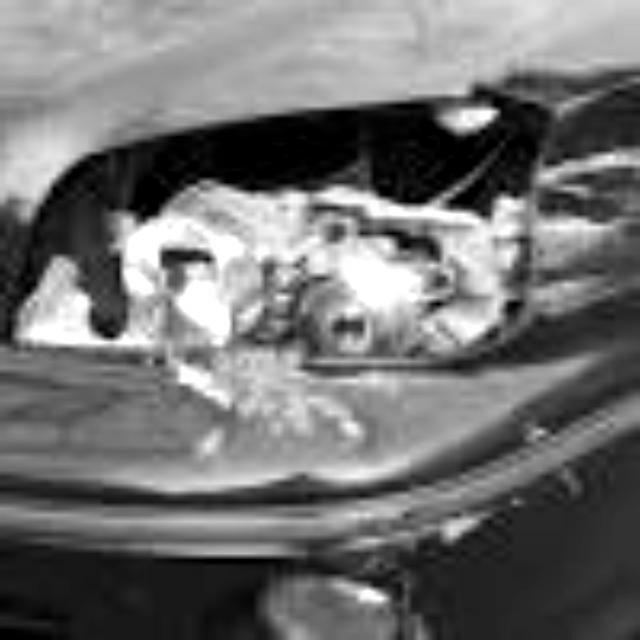Headlight-damage: (0, 90, 582, 403)
